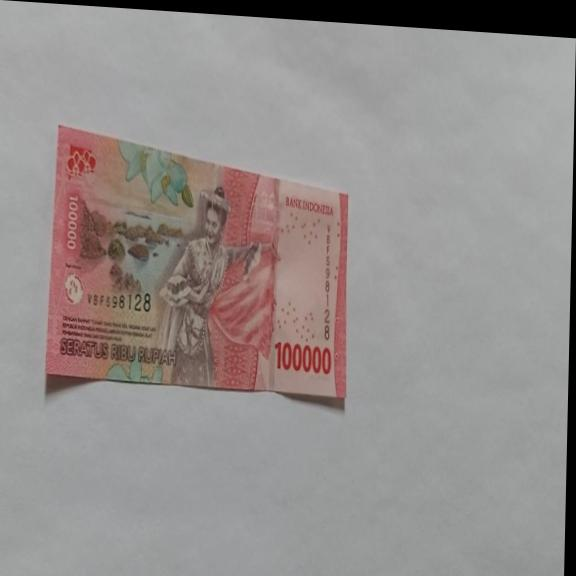Kertas: (44, 123, 352, 407), (274, 339, 332, 377)
